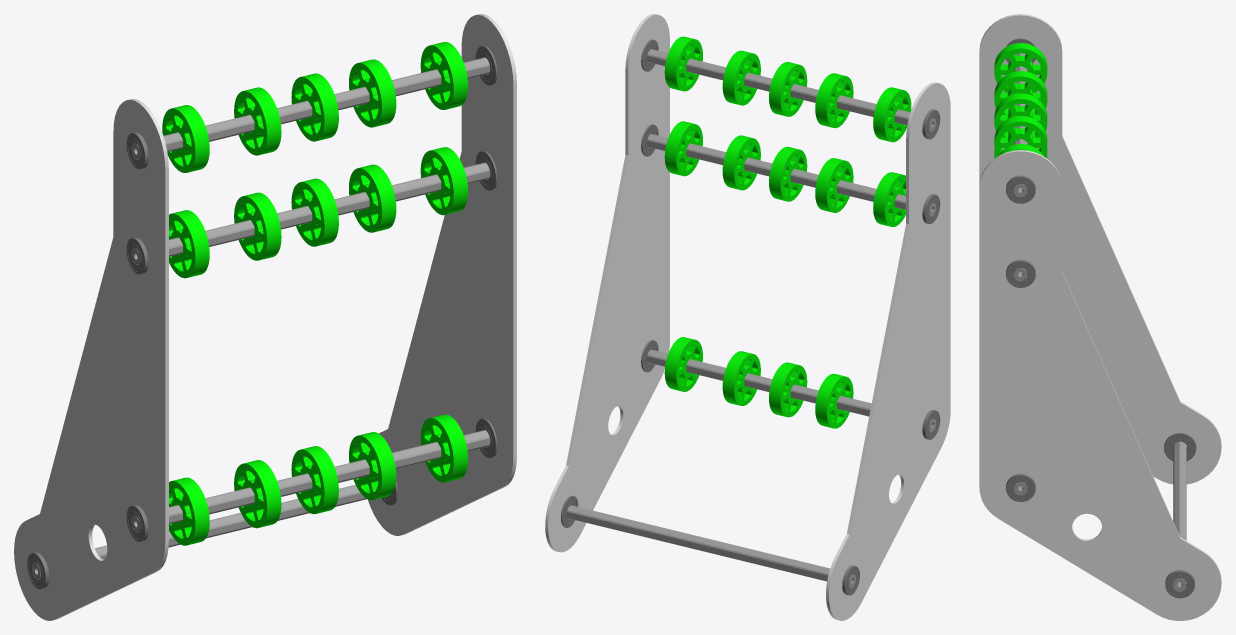
File: Robot_Jimmeh V2-1_1.glb
3 views of the same model, side by side, from view 1: azimuth 30°, elevation 25°; view 2: azimuth 150°, elevation 25°; view 3: azimuth 270°, elevation 25° (orthographic). The views are drawn at different scales.
Parts seen in each view (by area): view 1: Hand V2 Plate (×2), 2in Compliant Wheel (×15), 12.5in Hex Rod (×4); view 2: Hand V2 Plate (×2), 2in Compliant Wheel (×14), 12.5in Hex Rod (×4); view 3: Hand V2 Plate (×2), 2in Compliant Wheel (×4), Hex Rod Flange Bearing (×5), 12.5in Hex Rod (×2).
Boxes of the visible parts, box(x1,y1,x2,y2) form: Hand V2 Plate (×2): box(14, 14, 516, 620); 2in Compliant Wheel (×15): box(162, 42, 468, 545); 12.5in Hex Rod (×4): box(32, 57, 490, 579); Hand V2 Plate (×2): box(545, 14, 950, 620); 2in Compliant Wheel (×14): box(664, 36, 911, 428); 12.5in Hex Rod (×4): box(566, 49, 936, 587); Hand V2 Plate (×2): box(979, 14, 1221, 620); 2in Compliant Wheel (×4): box(994, 43, 1047, 156); Hex Rod Flange Bearing (×5): box(1006, 175, 1196, 598); 12.5in Hex Rod (×2): box(1014, 53, 1186, 591).
Bounding box in the file's own units: 0.3175 × 0.4959 × 0.2318.
